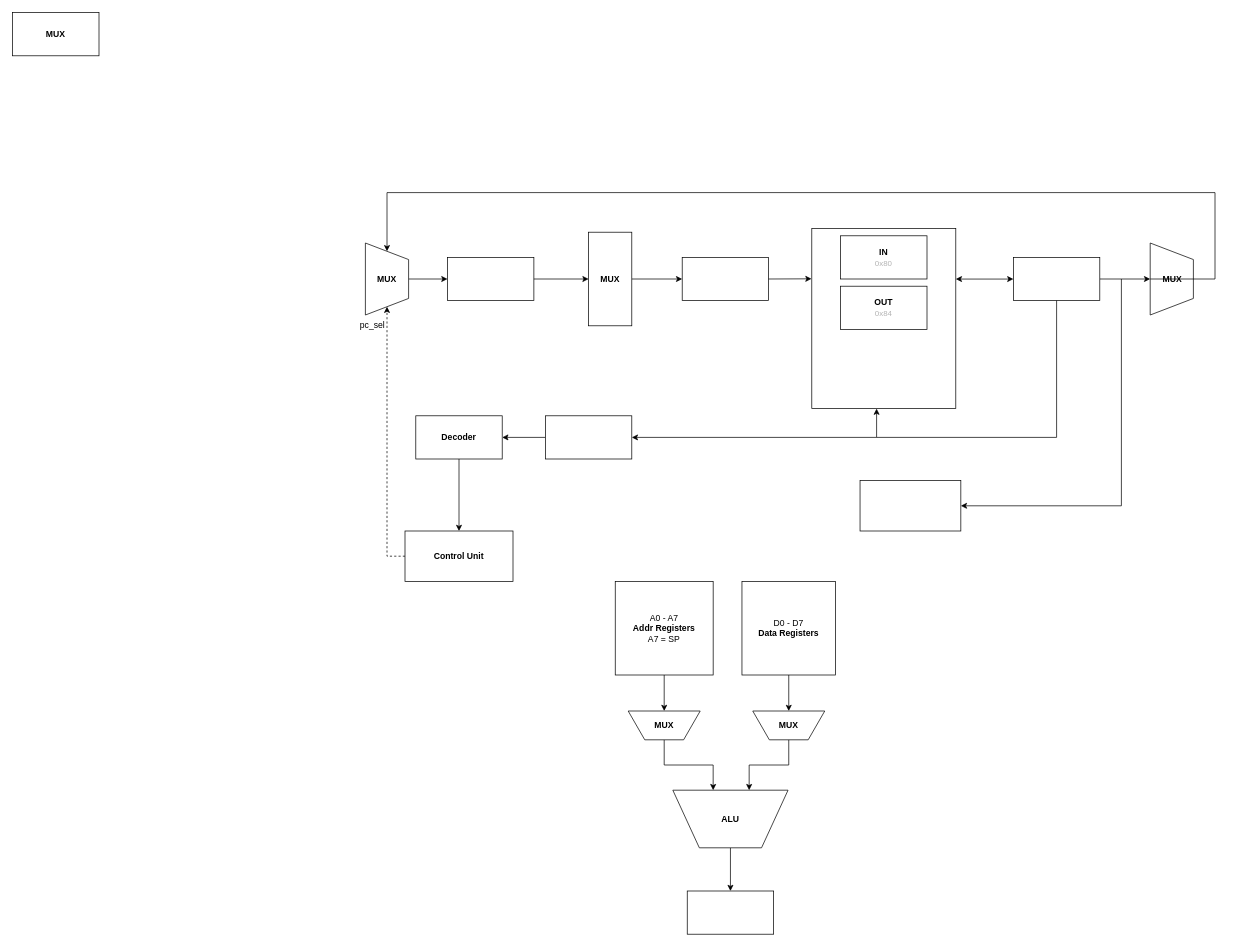
Some shapes in this 1233 by 947 pixel diagram are drawn without their labels. The shapes that lost their labels are listed below. From the top down, each one's box as (x1, y1, x2, y2) in pixels, then its label:
(447, 257, 534, 301): PC
(681, 257, 769, 301): MAR
(1013, 257, 1100, 301): MDR
(811, 228, 956, 409): MEMORY
(545, 415, 632, 459): IR
(859, 480, 961, 531): AGU
(687, 890, 774, 934): SR N Z V C
